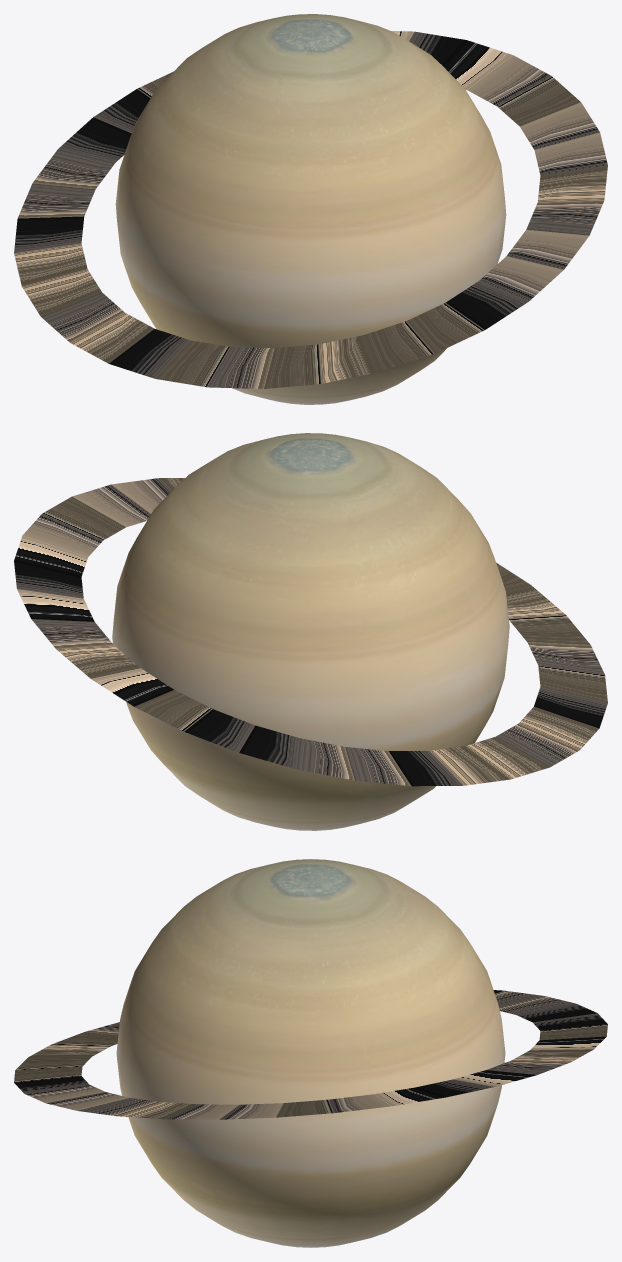
The model's file is Saturno.glb.
The picture shows the model from 3 angles, top to bottom: view 1: azimuth 30°, elevation 25°; view 2: azimuth 150°, elevation 25°; view 3: azimuth 270°, elevation 25°; orthographic projection. The views are drawn at different scales.
Visible parts, largest first — view 1: saturno.001, Circle; view 2: saturno.001, Circle; view 3: saturno.001, Circle.
Boxes of the visible parts, x1,y1,x2,y2 form: saturno.001: (115,14,506,404); Circle: (14,31,607,388); saturno.001: (112,433,509,830); Circle: (14,478,607,786); saturno.001: (116,859,505,1247); Circle: (14,990,607,1119).
Bounding box in the file's own units: 4.83 × 3.24 × 4.95.
Materials: 2 (2 with a texture image).
